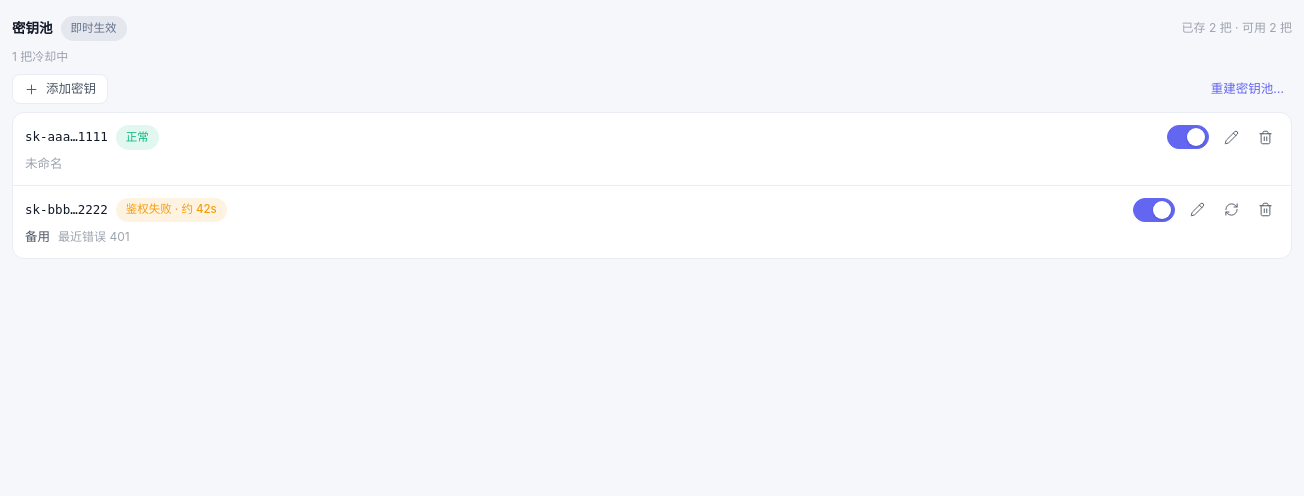
Test: ChannelKeysSection › 都没改就保存：不发请求，直接收起编辑带
Click the button named "编辑密钥" in the row of "正常": (1231, 137) [1217, 123, 1245, 151]
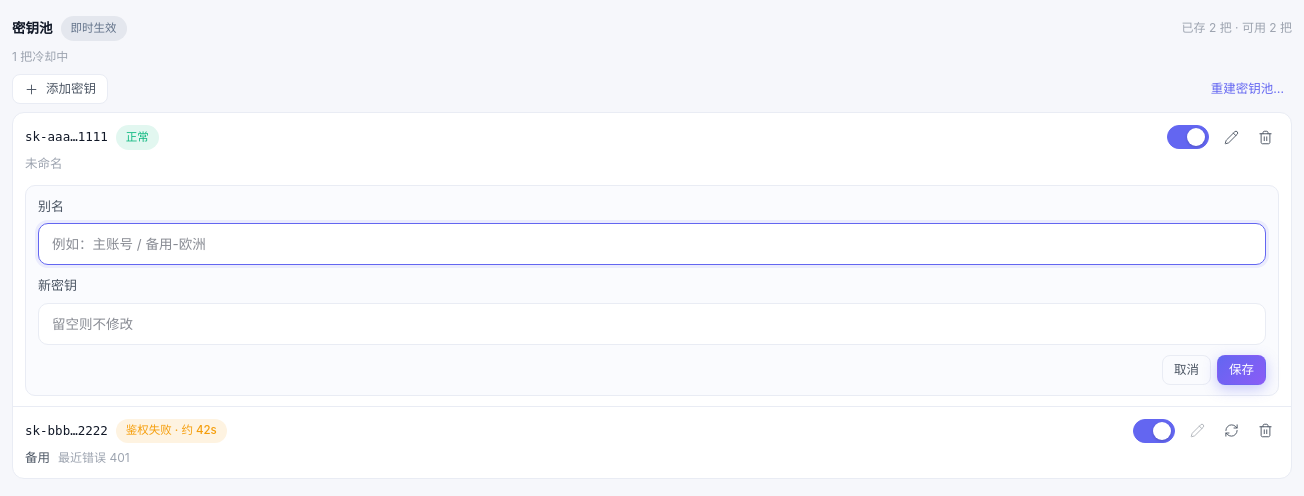
Click the button "保存": (1242, 370) [1217, 355, 1266, 385]
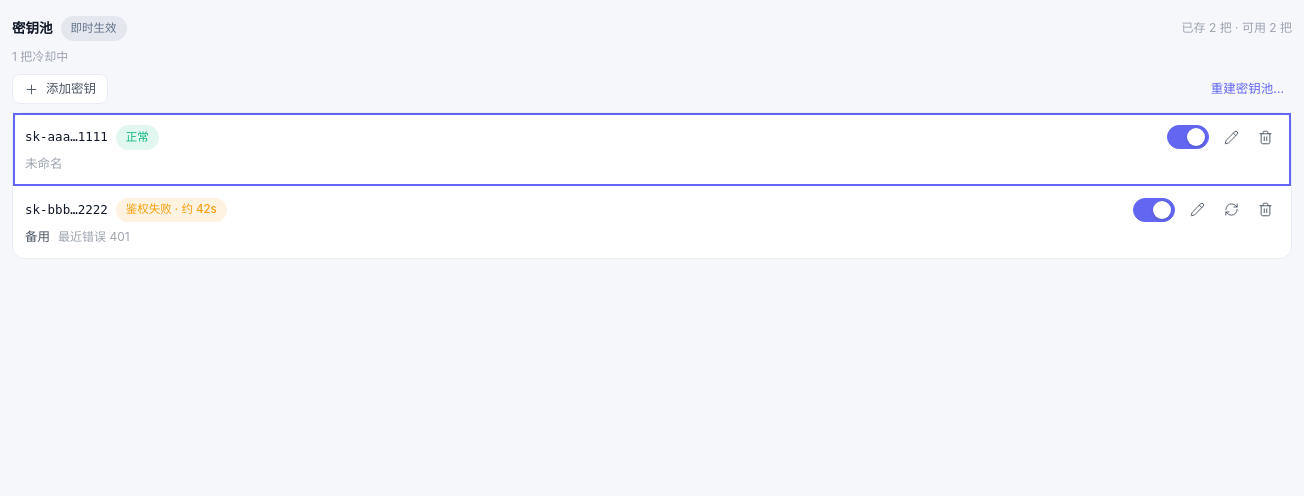
Now the label labelled "别名" is gone
